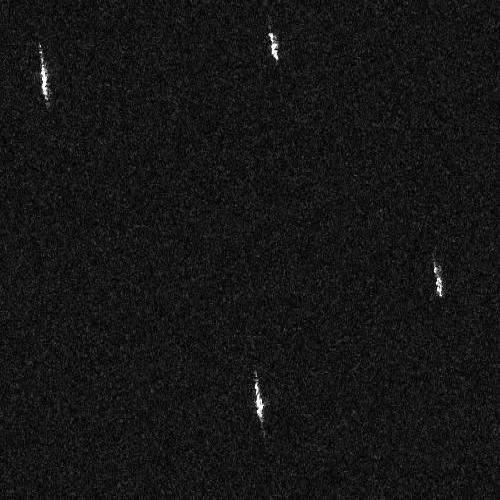ship: (38, 50, 49, 102), (254, 378, 265, 421), (433, 265, 445, 298), (268, 31, 280, 63)
